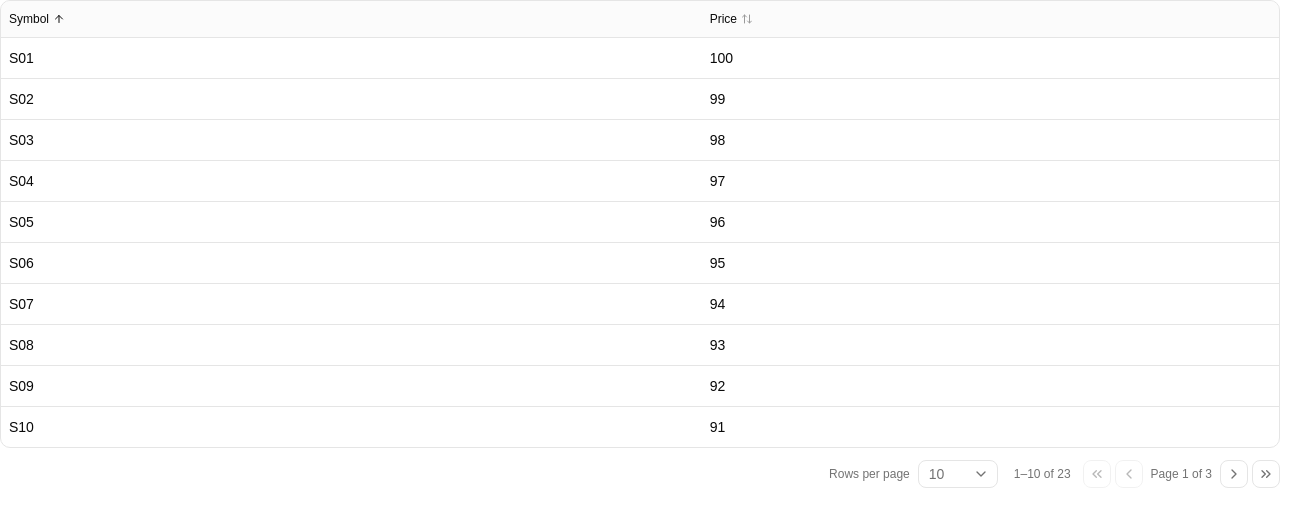
Test: DataTable paging › sorts across all rows, not only the current page, and starts again at page 1
Step 1. Click the button named "Next page" → (1234, 474), box [1220, 460, 1248, 488]
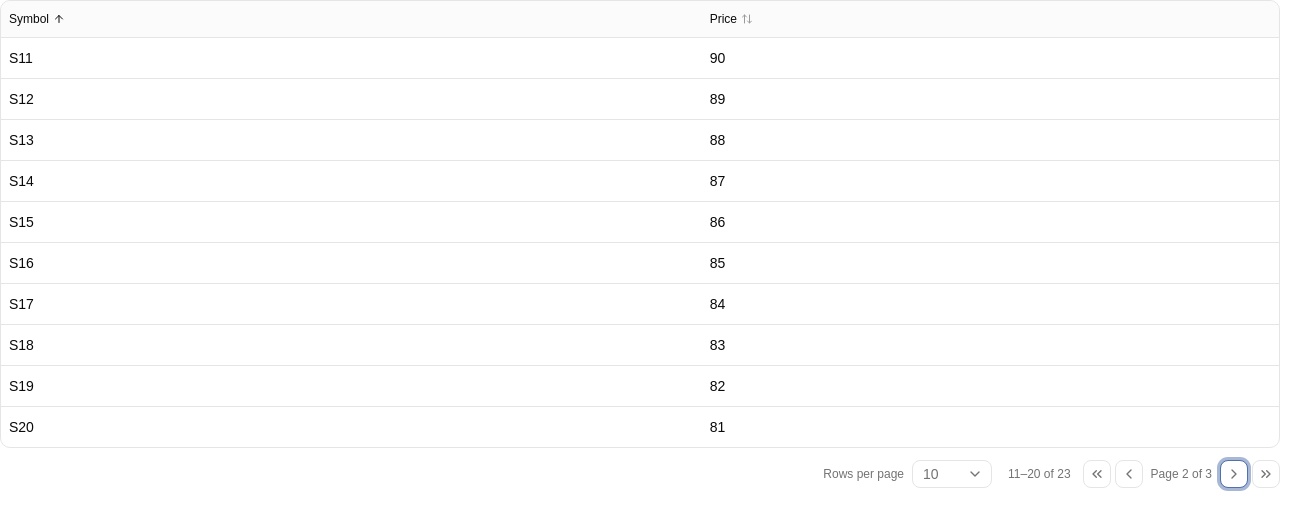
Step 2. Click the button "Price" → (731, 19), box [710, 11, 753, 27]
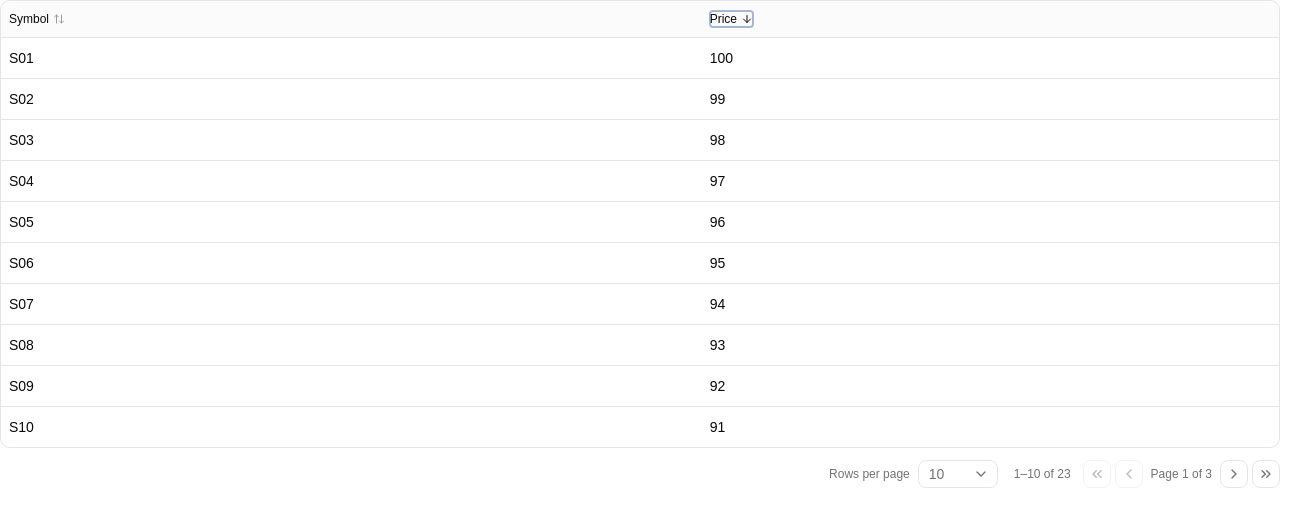
Now the text "Page 1 of 3" is shown, box [1147, 466, 1216, 482]
Now the cell "S01" is shown, box [1, 37, 702, 78]
Step 3. Click the button "Price" → (731, 19), box [710, 11, 753, 27]
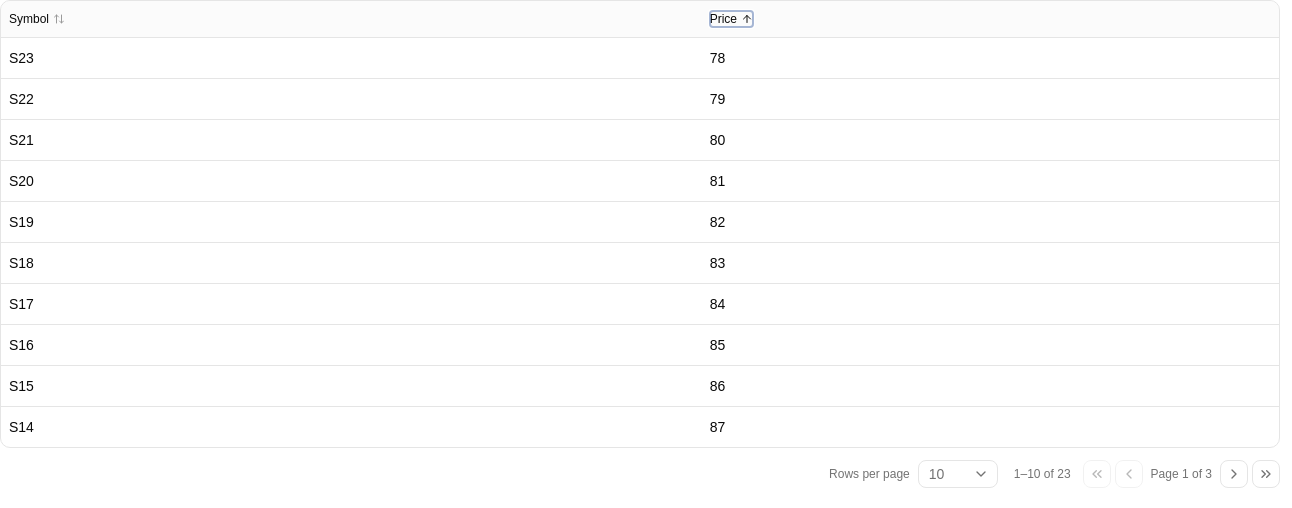
Now the cell "S23" is shown, box [1, 37, 702, 78]
